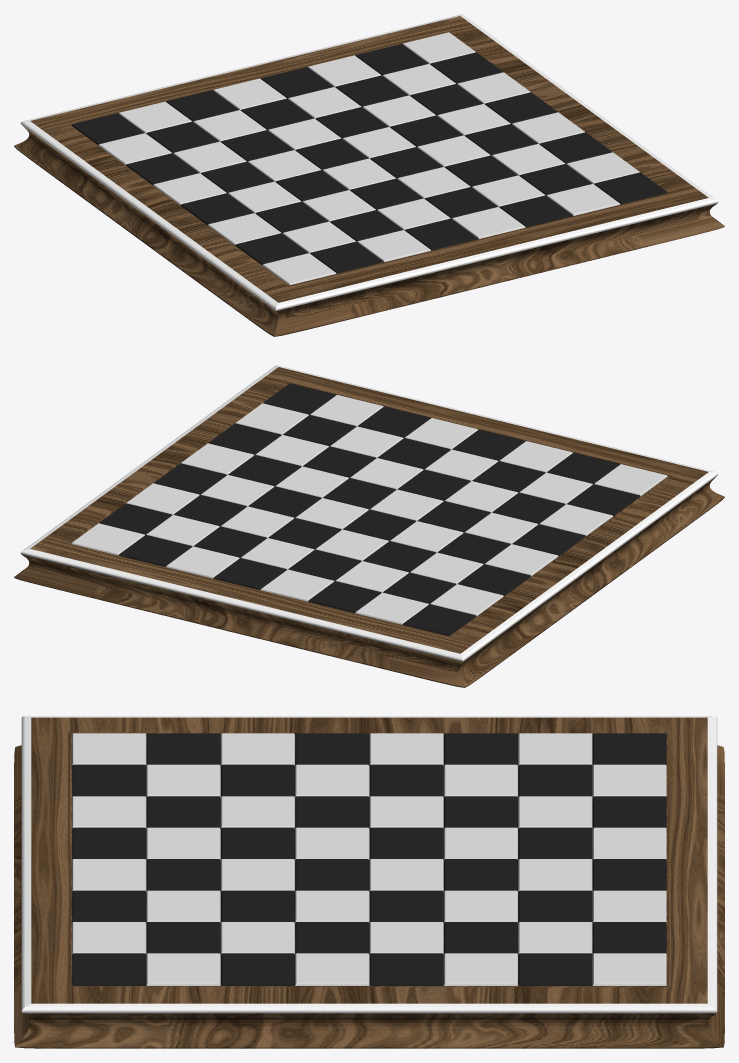
The model's file is Chessboard.fbx.
3 views of the same model, one above another, from view 1: azimuth 30°, elevation 25°; view 2: azimuth 150°, elevation 25°; view 3: azimuth 270°, elevation 25° (orthographic). The views are drawn at different scales.
Visible parts, largest first — view 1: Plane, Cube; view 2: Plane, Cube; view 3: Plane, Cube.
Boxes of the visible parts, x1=… form: Plane: x1=71, y1=32, x2=667, y2=285; Cube: x1=14, y1=14, x2=724, y2=336; Plane: x1=71, y1=383, x2=667, y2=636; Cube: x1=14, y1=365, x2=724, y2=687; Plane: x1=72, y1=733, x2=666, y2=985; Cube: x1=14, y1=716, x2=724, y2=1048.
Bounding box in the file's own units: 1897 × 121 × 1897.
5 materials, 1 textured.
